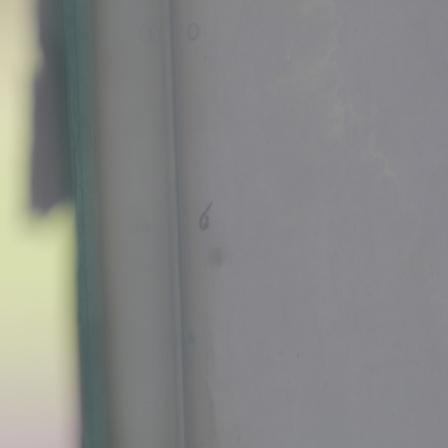Jentik-Nyamuk: (194, 193, 218, 236)
